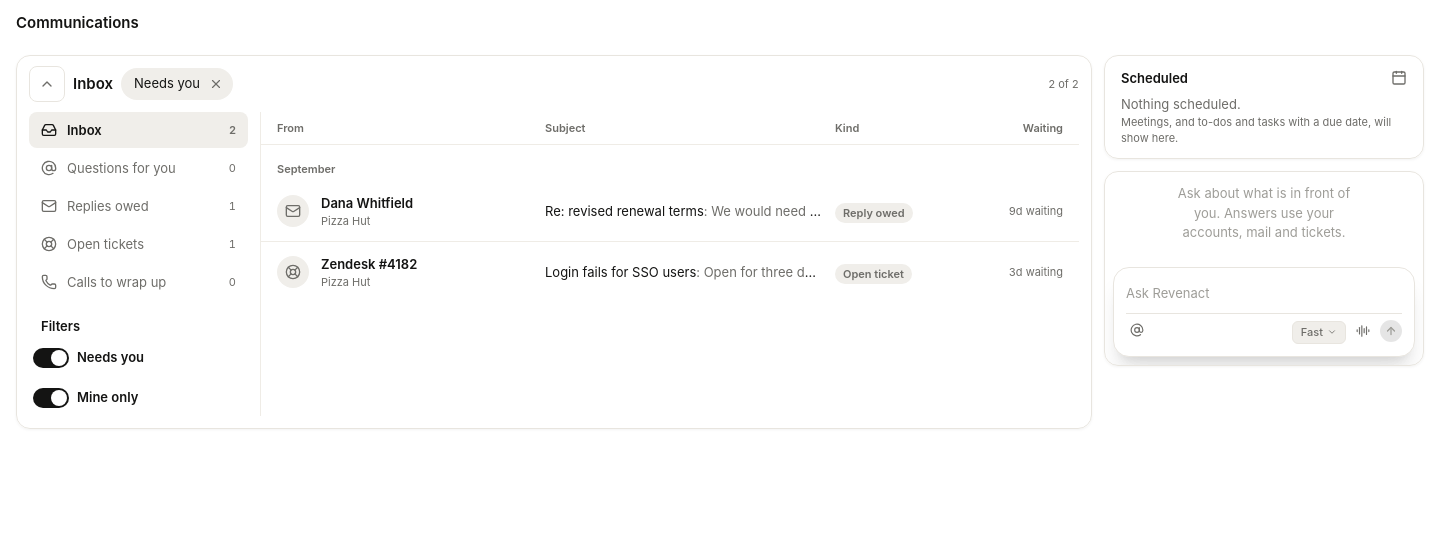
Test: CommunicationsPage › replies to a queue email from the mailbox and says so
The image size is (1440, 548).
Click the button "Dana Whitfield". click: coordinates (427, 203)
box: [321, 193, 533, 213]
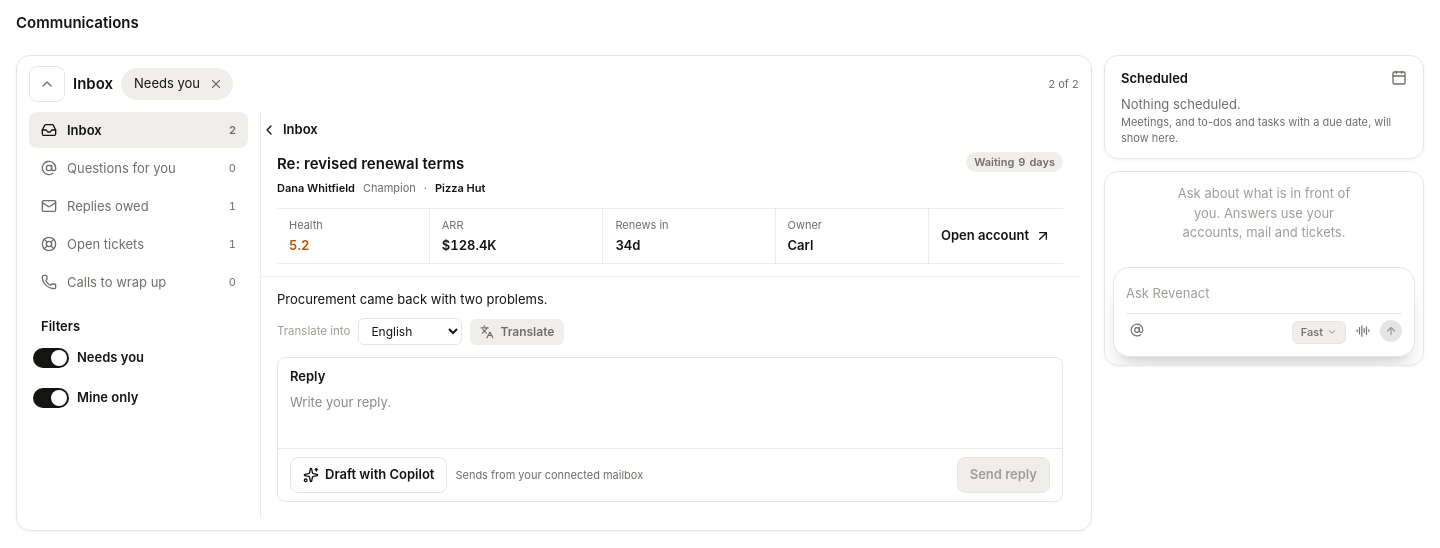
Type "Thursday works." into the text box labelled "Reply". click: coordinates (670, 414)
box: [278, 386, 1062, 442]
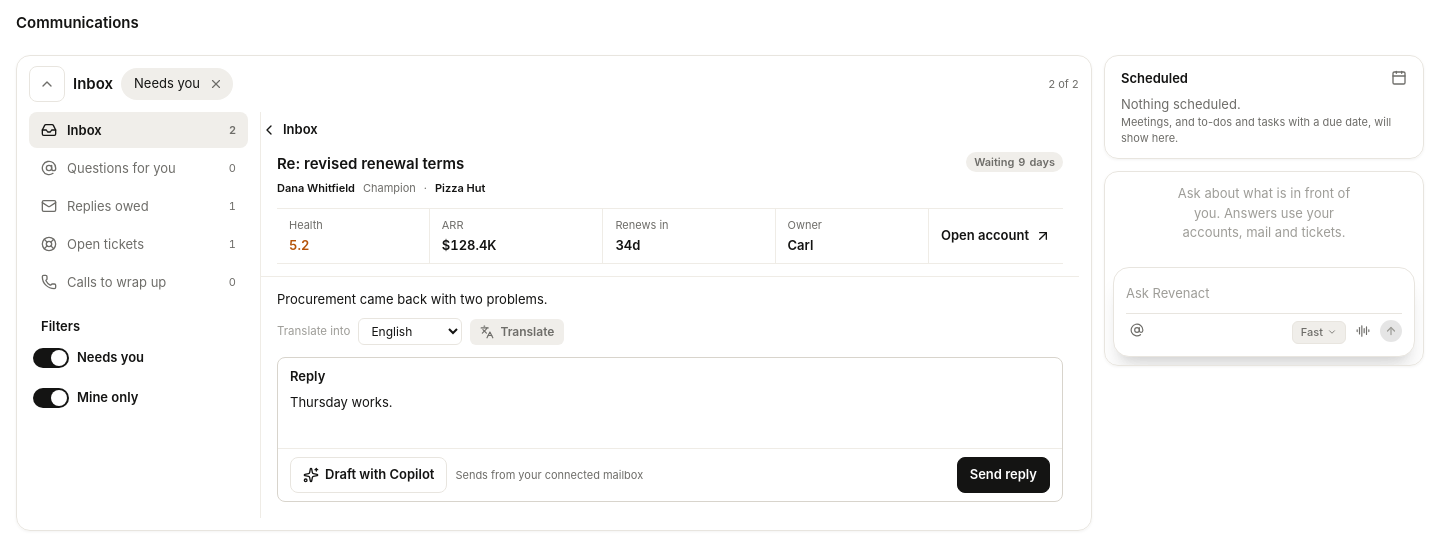
Click the button "Send reply". click: coordinates (1003, 475)
box: [957, 457, 1050, 493]
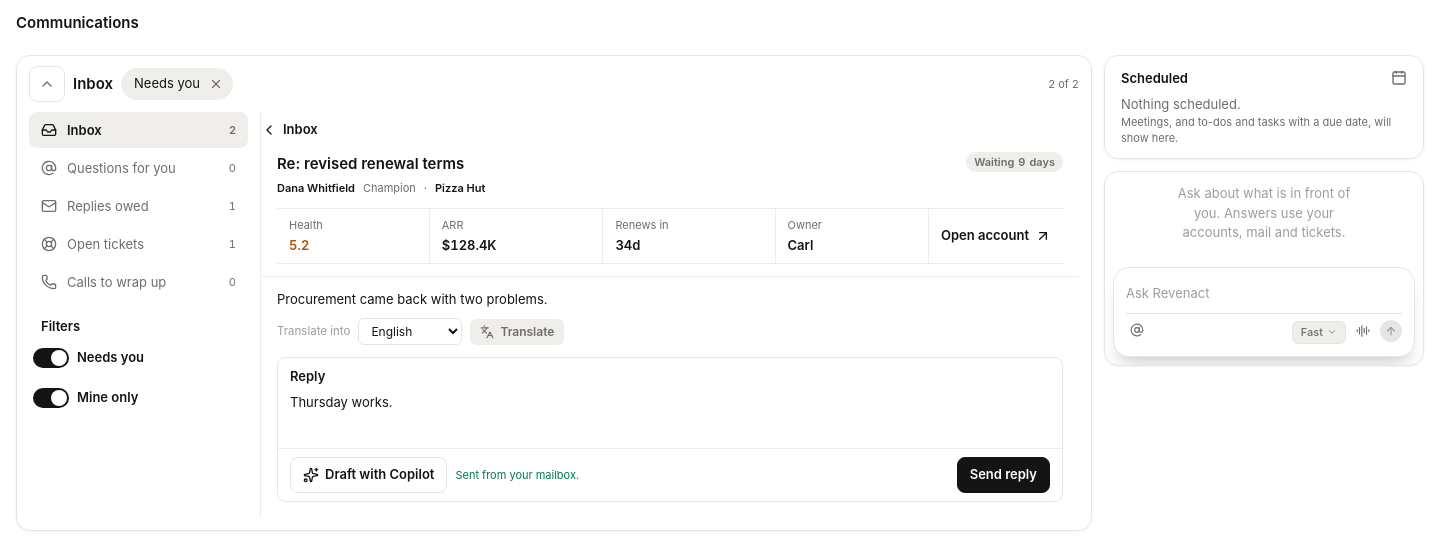
Now the message shows "Sent", box [455, 468, 579, 482]
